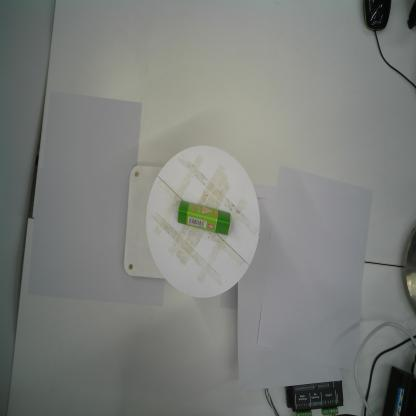Stationery: (177, 200, 231, 236)
